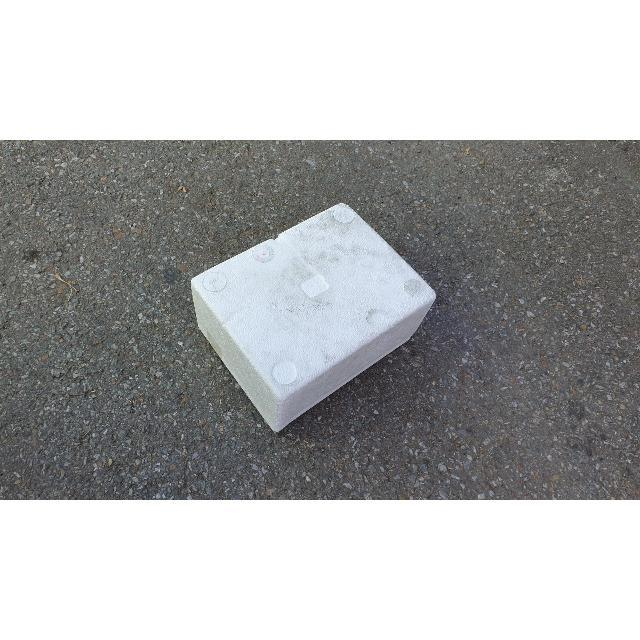Plastico descartable: (189, 204, 437, 434)
